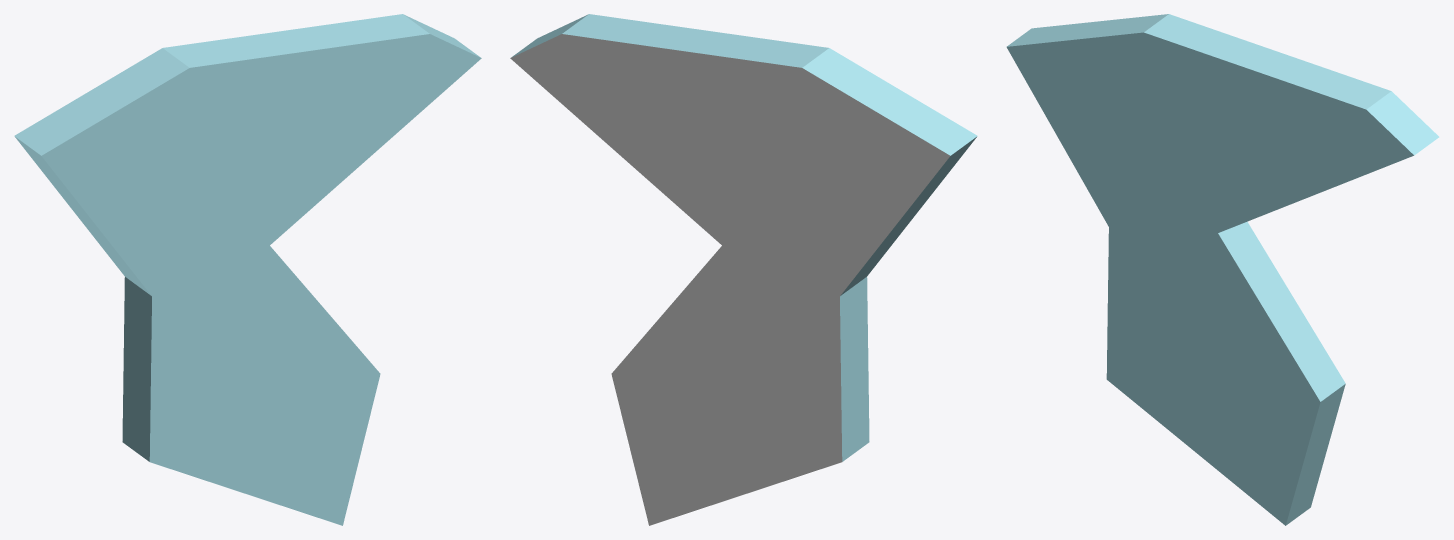
File: chrome5.glb
The picture shows the model from 3 angles, left to right: view 1: azimuth 30°, elevation 25°; view 2: azimuth 150°, elevation 25°; view 3: azimuth 330°, elevation 25°; orthographic projection. The views are drawn at different scales.
Parts seen in each view (by area): view 1: Plane.006; view 2: Plane.006; view 3: Plane.006.
Boxes of the visible parts, x1,y1,x2,y2 form: Plane.006: (14, 14, 481, 525); Plane.006: (510, 14, 977, 525); Plane.006: (1006, 14, 1439, 525).
Bounding box in the file's own units: 46.6 × 50.09 × 5.
